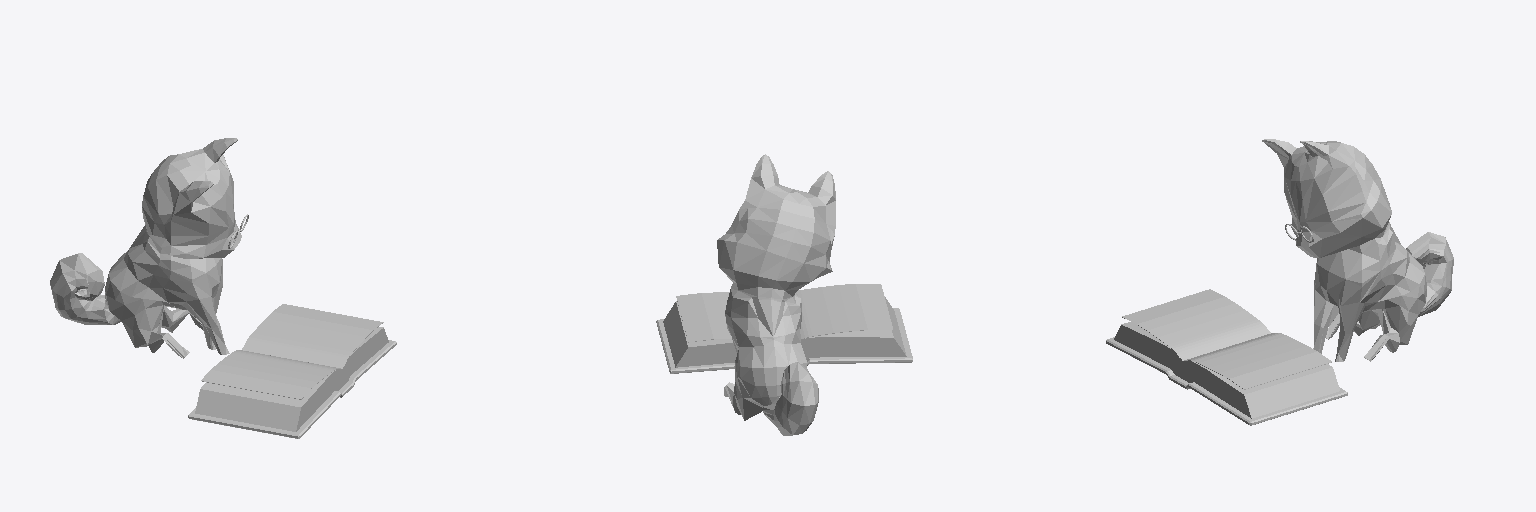
Rendered from book_frame19.obj.
The picture shows the model from 3 angles: view 1: azimuth 30°, elevation 25°; view 2: azimuth 150°, elevation 25°; view 3: azimuth 270°, elevation 25°; orthographic projection.
Visible parts, largest first — view 1: StidyGlasses_Computer_Sitting:Sitting:newRigging:BodzL1, polySurface1; view 2: StidyGlasses_Computer_Sitting:Sitting:newRigging:BodzL1, polySurface1; view 3: StidyGlasses_Computer_Sitting:Sitting:newRigging:BodzL1, polySurface1.
Boxes of the visible parts, box(x1,y1,x2,y2) form: StidyGlasses_Computer_Sitting:Sitting:newRigging:BodzL1: box(50, 138, 241, 358); polySurface1: box(188, 304, 396, 438); StidyGlasses_Computer_Sitting:Sitting:newRigging:BodzL1: box(717, 154, 835, 435); polySurface1: box(656, 284, 912, 373); StidyGlasses_Computer_Sitting:Sitting:newRigging:BodzL1: box(1262, 139, 1453, 361); polySurface1: box(1106, 289, 1347, 425).
Bounding box in the file's own units: 9.18 × 7.74 × 11.01.